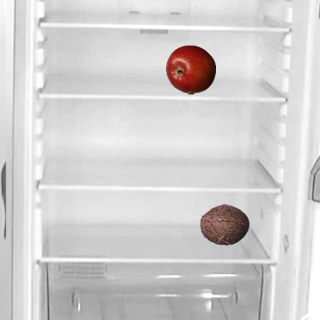Apple Braeburn: (165, 44, 215, 94)
Cocos: (199, 199, 249, 249)
